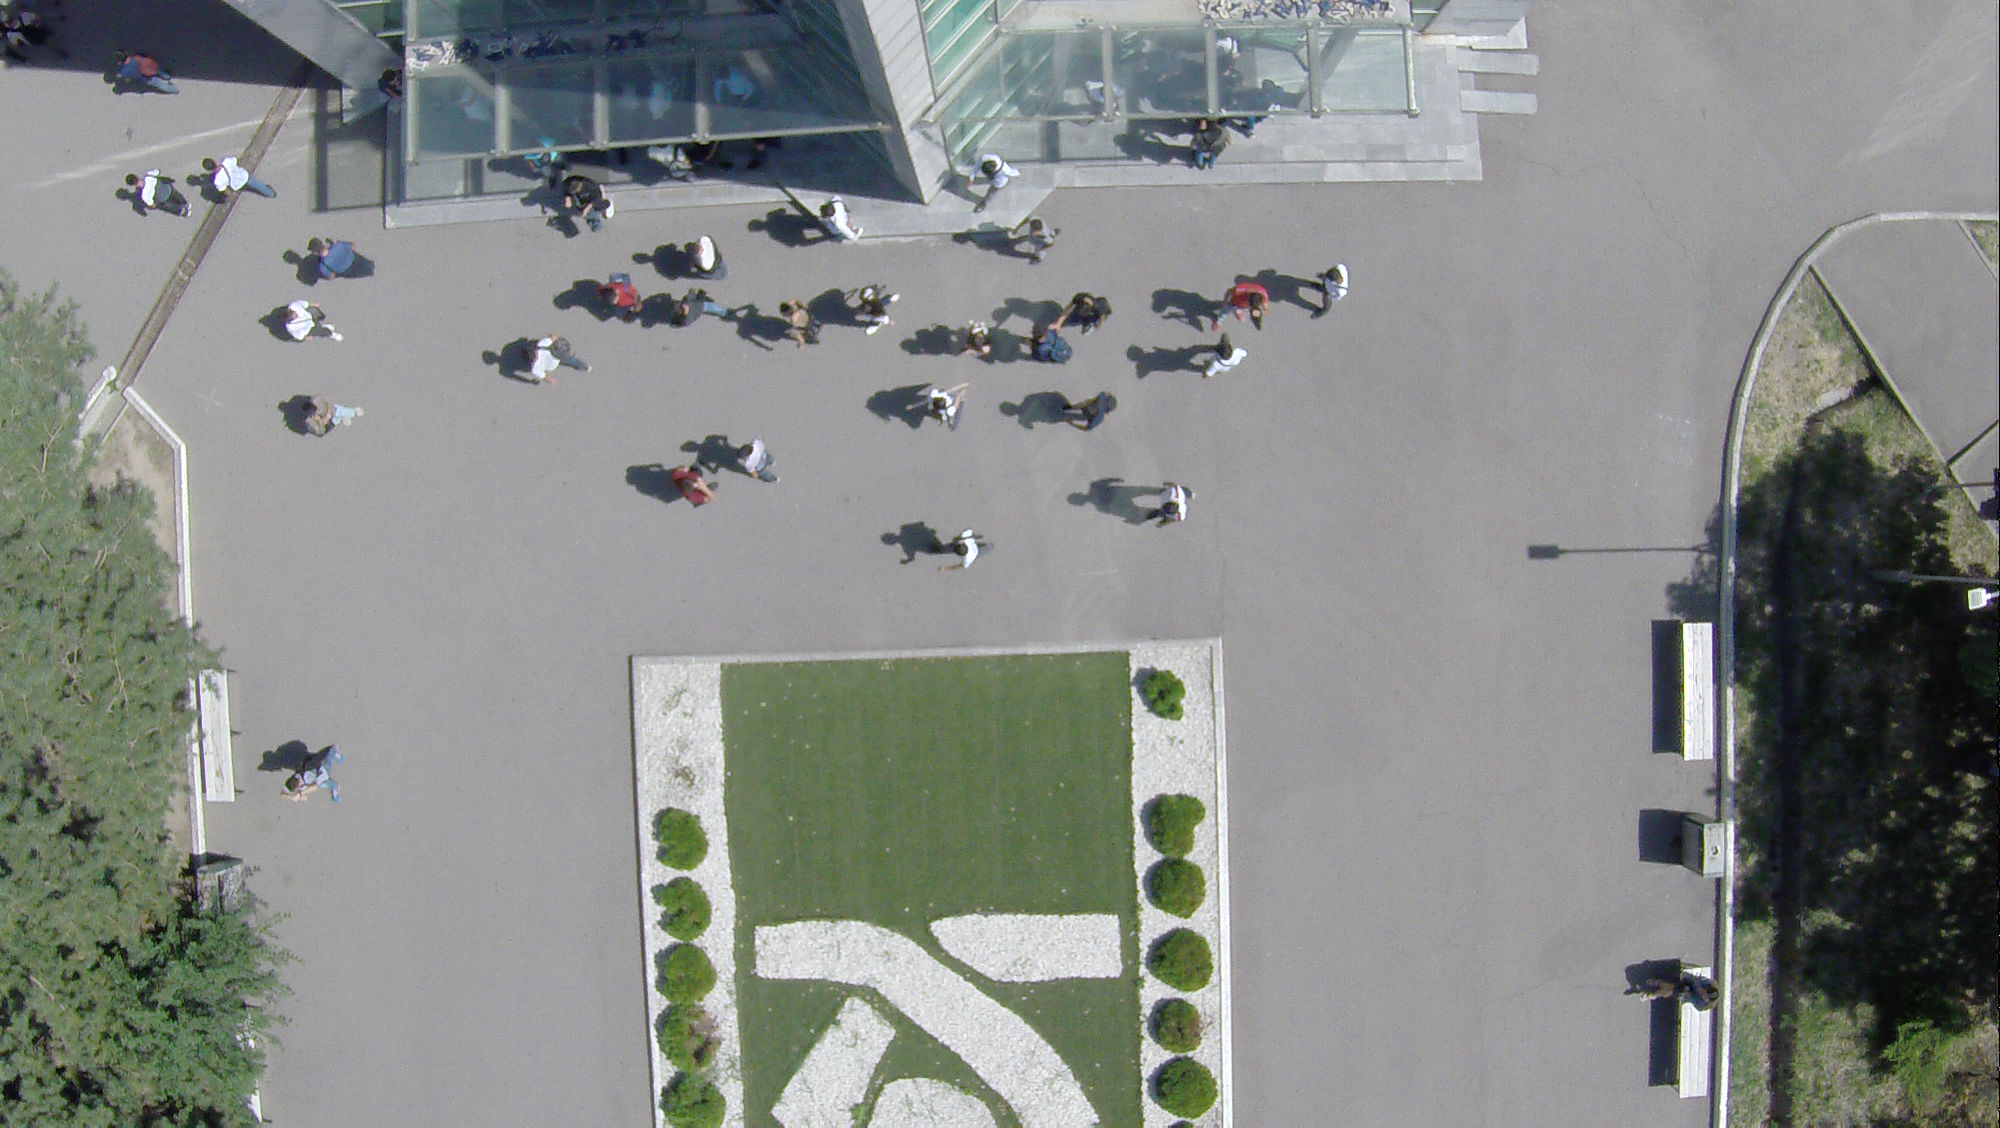person: (516, 334, 592, 388), (280, 743, 348, 802), (963, 152, 1025, 214), (557, 174, 619, 235), (201, 154, 279, 202), (304, 232, 375, 285), (125, 166, 193, 220), (1636, 972, 1719, 1015), (108, 48, 181, 96), (278, 301, 348, 349), (1049, 291, 1115, 339), (303, 390, 363, 442), (670, 287, 737, 333), (1203, 284, 1269, 329), (924, 374, 976, 428), (935, 525, 992, 575), (1146, 476, 1197, 531), (769, 297, 822, 349), (596, 273, 648, 325), (1306, 261, 1350, 322), (1199, 331, 1248, 383), (1010, 213, 1059, 265), (1059, 392, 1121, 432), (818, 192, 864, 246), (859, 286, 901, 342), (1186, 118, 1231, 170), (732, 435, 778, 488), (671, 462, 716, 510), (684, 231, 726, 281), (1027, 325, 1072, 366), (958, 318, 993, 360)
